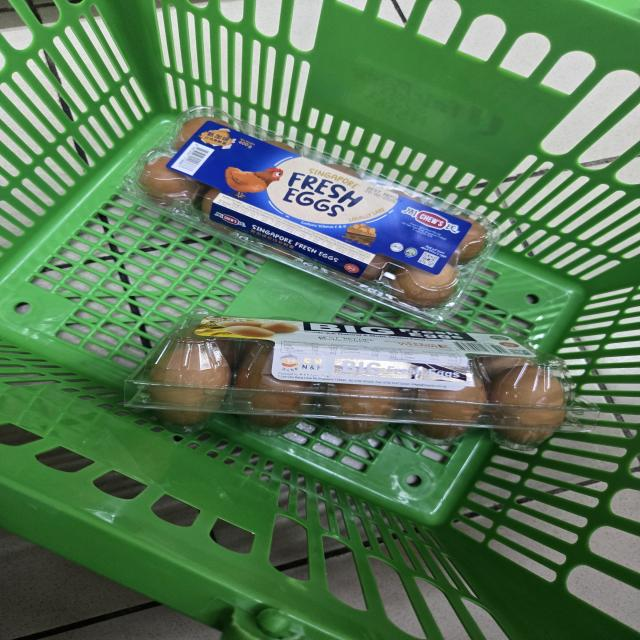eggs: (113, 102, 500, 328), (119, 307, 607, 460)
